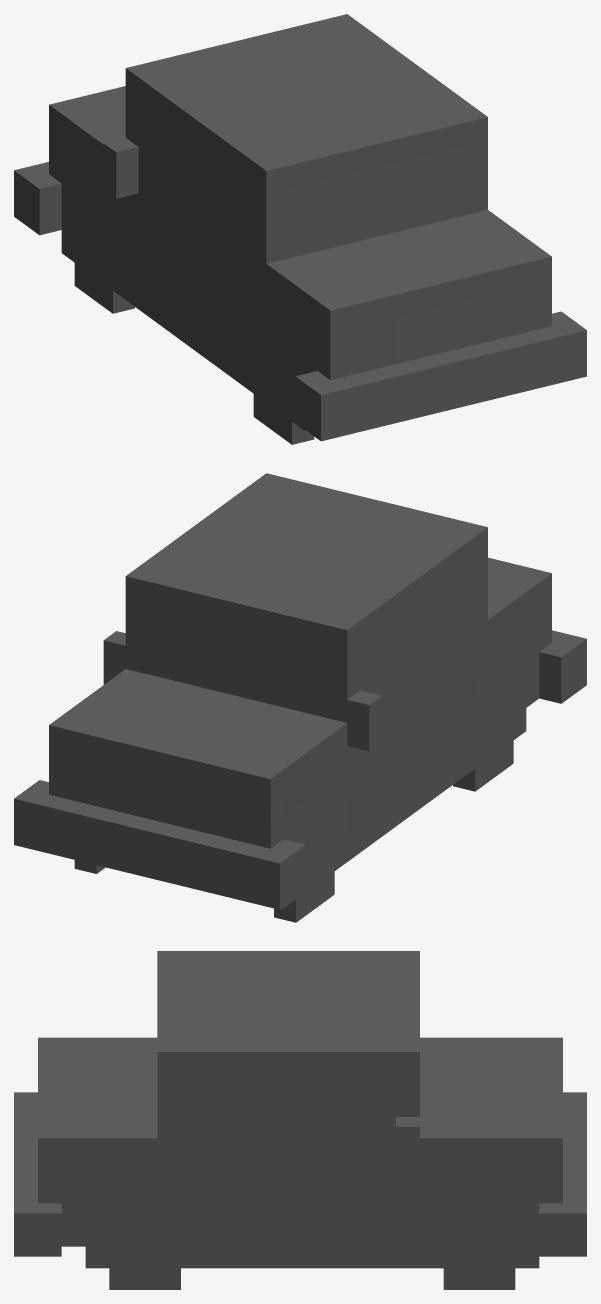
Rendered from veh_mini5.obj.
3 renders of one model, top to bottom at view 1: azimuth 30°, elevation 25°; view 2: azimuth 150°, elevation 25°; view 3: azimuth 270°, elevation 25°, orthographic. The views are drawn at different scales.
Bounding box in the file's own units: 12 × 11 × 24.
